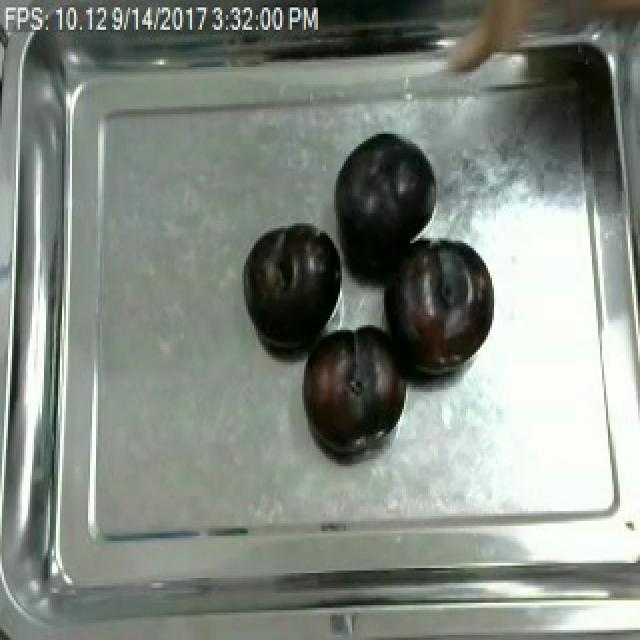Fruit: (378, 230, 502, 384), (294, 317, 410, 454), (328, 124, 442, 260), (240, 218, 346, 355)
